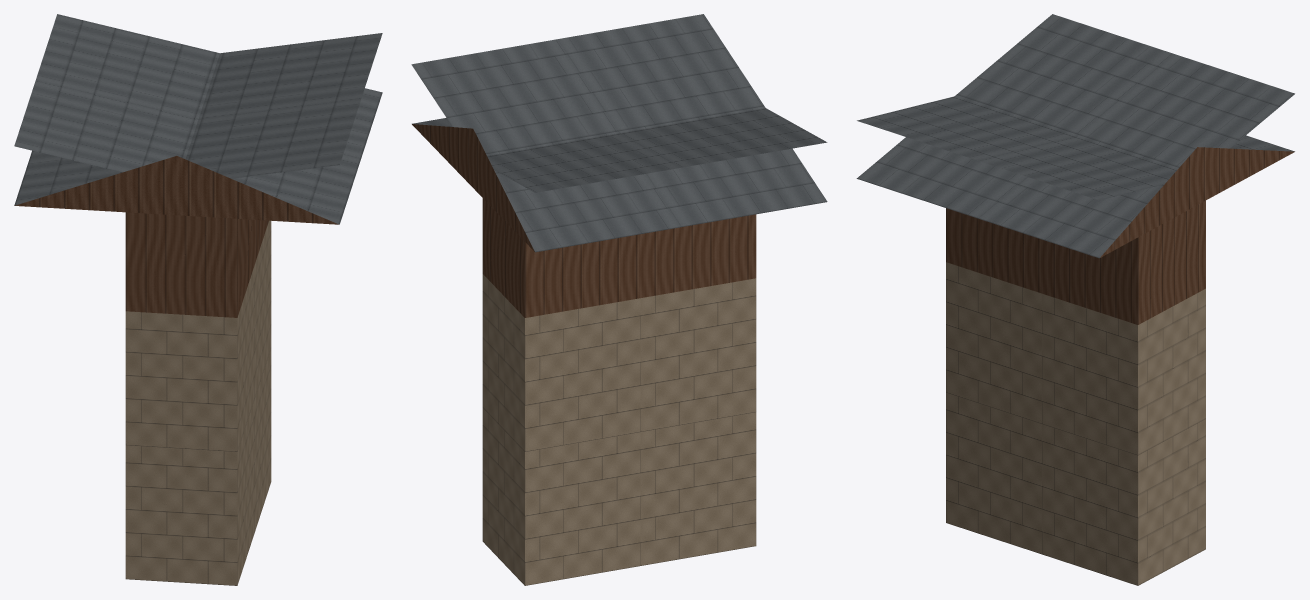
The model's file is bld_c10_9_498.gltf.
3 renders of one model, left to right at view 1: azimuth 30°, elevation 25°; view 2: azimuth 150°, elevation 25°; view 3: azimuth 270°, elevation 25°, orthographic. The views are drawn at different scales.
Parts seen in each view (by area): view 1: bld_c10_9_498; view 2: bld_c10_9_498; view 3: bld_c10_9_498.
Boxes of the visible parts, left/top/right/bottom form: bld_c10_9_498: left=14, top=14, right=382, bottom=585; bld_c10_9_498: left=411, top=14, right=827, bottom=585; bld_c10_9_498: left=856, top=14, right=1294, bottom=585.
Size of the model in its own units: 6.9 by 7.4 by 6.87.
4 materials, 4 textured.
